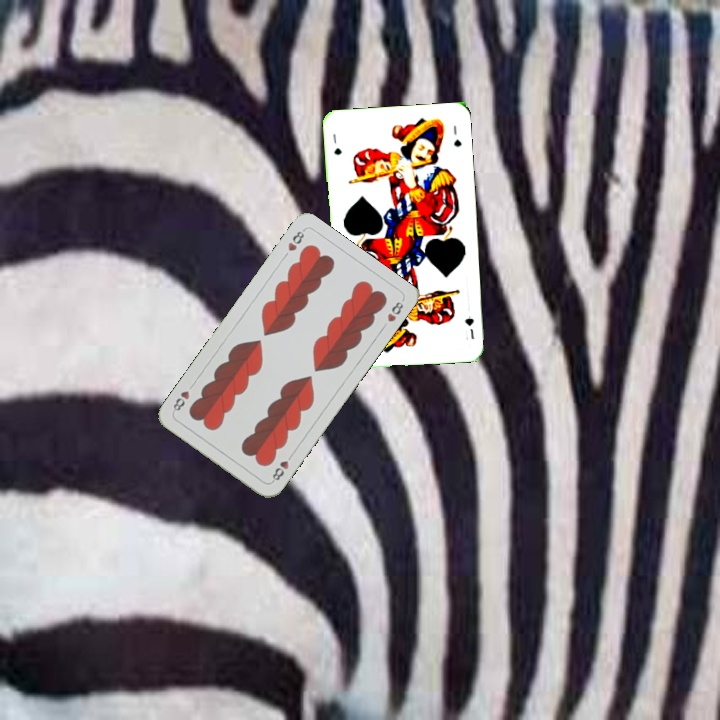GU: (461, 312, 477, 343), (329, 130, 344, 157)
H8: (268, 449, 296, 485), (284, 226, 307, 254)
